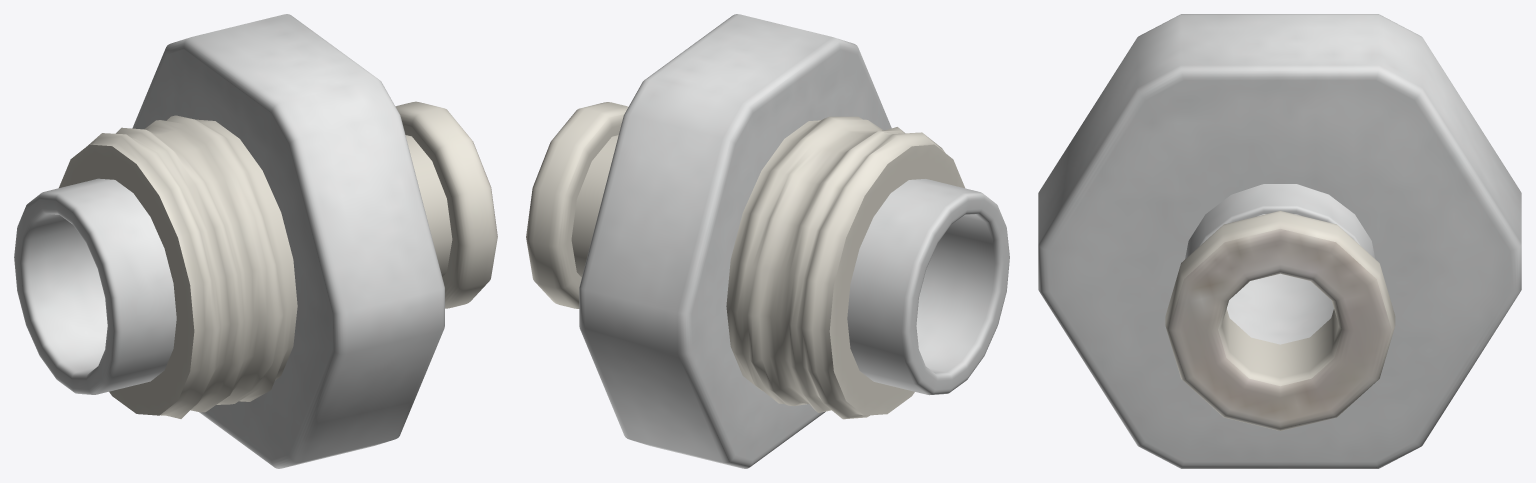
The model's file is ZhiTou01.fbx.
3 views of the same model, side by side, from view 1: azimuth 30°, elevation 25°; view 2: azimuth 150°, elevation 25°; view 3: azimuth 270°, elevation 25° (orthographic). The views are drawn at different scales.
Visible parts, largest first — view 1: 对象067; view 2: 对象067; view 3: 对象067.
Boxes of the visible parts, x1=… form: 对象067: x1=14, y1=14, x2=497, y2=468; 对象067: x1=526, y1=14, x2=1009, y2=468; 对象067: x1=1038, y1=14, x2=1521, y2=468.
Size of the model in its own units: 1.69 by 1.53 by 1.66.
